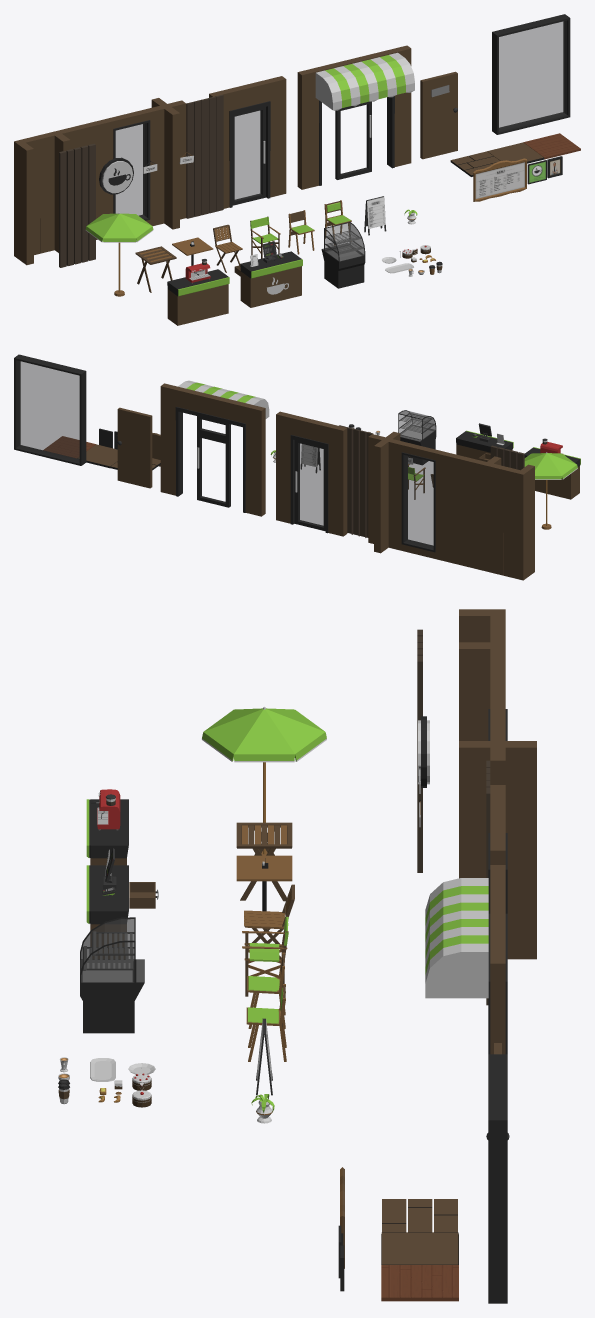
The model's file is cafe_set.fbx.
3 renders of one model, top to bottom at view 1: azimuth 30°, elevation 25°; view 2: azimuth 150°, elevation 25°; view 3: azimuth 270°, elevation 25°, orthographic. The views are drawn at different scales.
Parts seen in each view (by area): view 1: window_big_glass, wall_small_4ways, wall_large_2doors, wall_separator, wall_separator_alt, awning, wall_door, wall_small_corner, door_3, reception_desk_logo, reception_desk, wall_small_3ways (+27 smaller); view 2: window_big_glass, wall_large_2doors, wall_door, wall_small_3ways, wall_small_4ways, wall_small, wall_small_corner, door_3, window_glass, wall_separator, window_big, door_glass (+16 smaller); view 3: wall_small_4ways, awning, parasol, window_big, display_base, wall_small_3ways, display_glass, wall_large_2doors, floor_tile_textured, reception_desk_logo, floor_tile_1, floor_tile_2 (+11 smaller).
Part boxes in pixels (x1=…): window_big_glass: x1=499, y1=21, x2=566, y2=130; wall_small_4ways: x1=146, y1=98, x2=186, y2=229; wall_large_2doors: x1=297, y1=45, x2=411, y2=189; wall_separator: x1=186, y1=94, x2=223, y2=218; wall_separator_alt: x1=59, y1=143, x2=95, y2=267; awning: x1=315, y1=52, x2=414, y2=110; wall_door: x1=209, y1=76, x2=286, y2=208; wall_small_corner: x1=14, y1=136, x2=39, y2=265; door_3: x1=420, y1=71, x2=457, y2=159; reception_desk_logo: x1=240, y1=251, x2=302, y2=307; reception_desk: x1=167, y1=269, x2=229, y2=325; wall_small_3ways: x1=36, y1=127, x2=76, y2=253; window_big_glass: x1=17, y1=361, x2=79, y2=461; wall_large_2doors: x1=160, y1=383, x2=265, y2=516; wall_door: x1=276, y1=411, x2=347, y2=536; wall_small_3ways: x1=469, y1=456, x2=506, y2=575; wall_small_4ways: x1=368, y1=431, x2=405, y2=553; wall_small: x1=435, y1=450, x2=472, y2=567; wall_small_corner: x1=503, y1=464, x2=534, y2=580; door_3: x1=117, y1=407, x2=152, y2=488; window_glass: x1=405, y1=455, x2=433, y2=548; wall_separator: x1=339, y1=425, x2=373, y2=537; window_big: x1=14, y1=354, x2=86, y2=465; door_glass: x1=299, y1=443, x2=323, y2=526; wall_small_4ways: x1=459, y1=727, x2=536, y2=959; awning: x1=425, y1=878, x2=488, y2=998; parasol: x1=202, y1=706, x2=326, y2=855; window_big: x1=488, y1=1054, x2=507, y2=1303; display_base: x1=80, y1=959, x2=144, y2=1033; wall_small_3ways: x1=459, y1=629, x2=505, y2=740; display_glass: x1=80, y1=918, x2=134, y2=982; wall_large_2doors: x1=490, y1=865, x2=505, y2=1054; floor_tile_textured: x1=381, y1=1265, x2=458, y2=1301; reception_desk_logo: x1=86, y1=865, x2=128, y2=958; floor_tile_1: x1=381, y1=1232, x2=458, y2=1264; floor_tile_2: x1=382, y1=1199, x2=457, y2=1232.
Bounding box in the file's own units: 1510 × 342 × 615.
